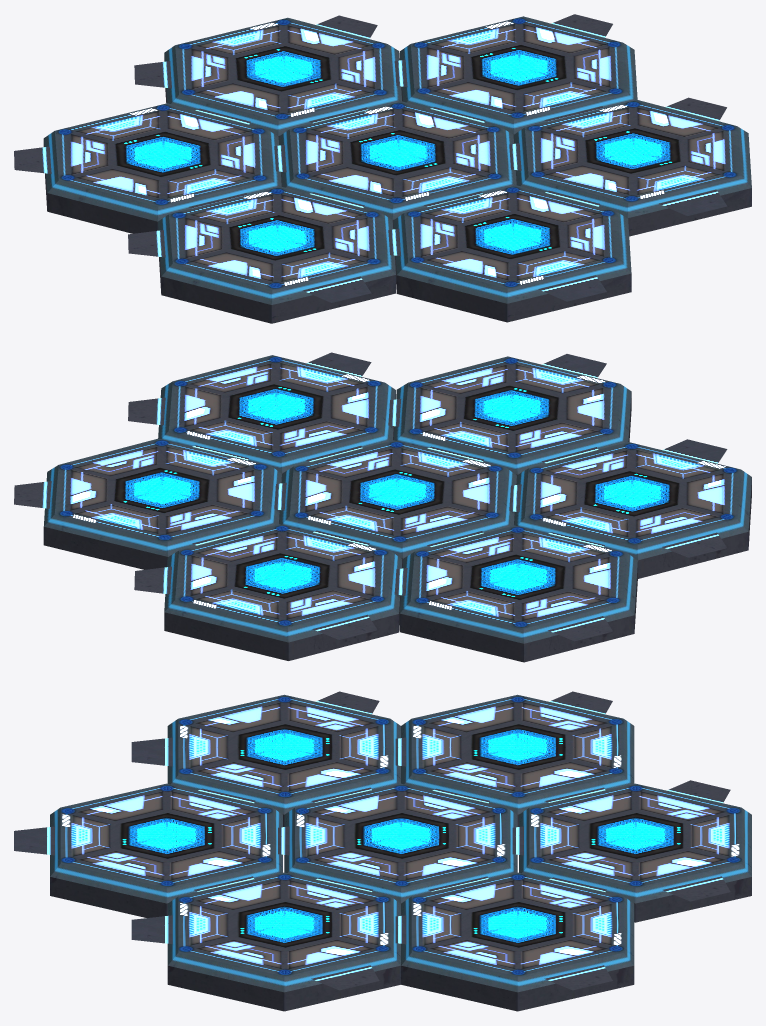
The model's file is ARC1110055.fbx.
3 renders of one model, top to bottom at view 1: azimuth 30°, elevation 25°; view 2: azimuth 150°, elevation 25°; view 3: azimuth 270°, elevation 25°, orthographic. The views are drawn at different scales.
Parts seen in each view (by area): view 1: smARC1110055; view 2: smARC1110055; view 3: smARC1110055.
Boxes of the visible parts, x1,y1,x2,y2 form: smARC1110055: (14,14,751,323); smARC1110055: (14,352,751,662); smARC1110055: (14,691,751,1011).
Size of the model in its own units: 673 by 30.69 by 702.
1 material, 1 textured.
